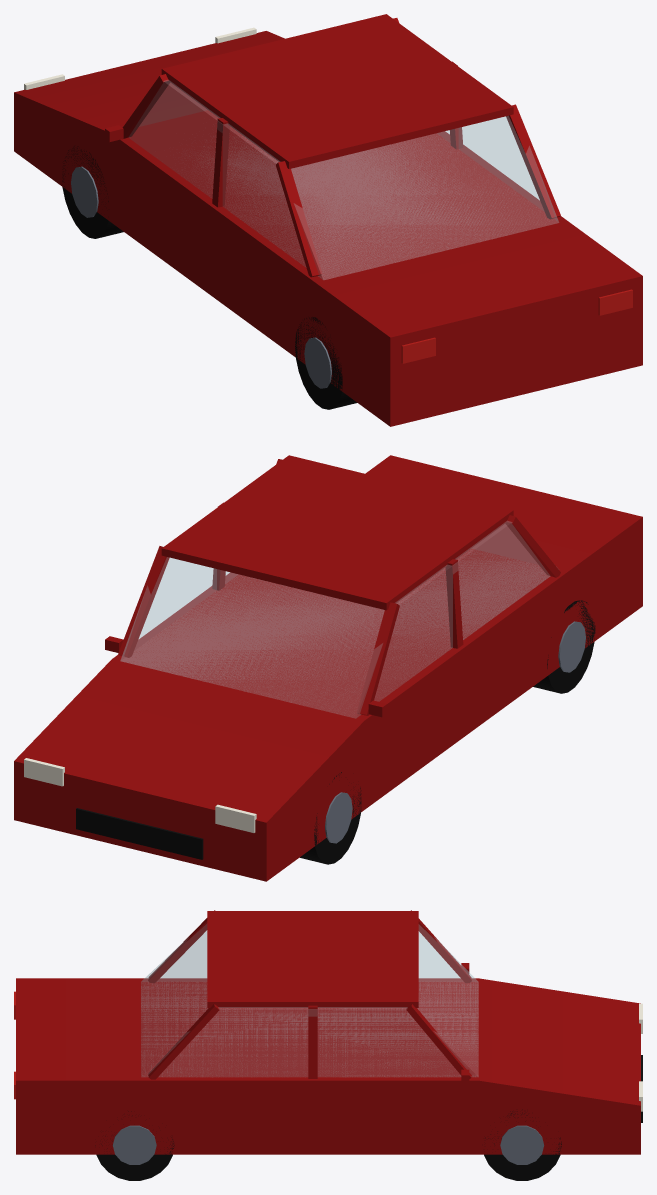
Rendered from vehicle.car.saloon_red.glb.
The picture shows the model from 3 angles, top to bottom: view 1: azimuth 30°, elevation 25°; view 2: azimuth 150°, elevation 25°; view 3: azimuth 270°, elevation 25°; orthographic projection. The views are drawn at different scales.
Parts seen in each view (by area): view 1: main__car_red, main__glass, main__rubber, main__steel_painted, main__hazard_red, main__light_emitter; view 2: main__car_red, main__glass, main__plastic_black, main__rubber, main__steel_painted, main__light_emitter; view 3: main__car_red, main__glass, main__steel_painted, main__rubber.
Part boxes in pixels (left/top/right/bottom): main__car_red: left=14, top=14, right=642, bottom=426; main__glass: left=129, top=80, right=558, bottom=279; main__rubber: left=62, top=146, right=357, bottom=409; main__steel_painted: left=71, top=166, right=331, bottom=388; main__hazard_red: left=401, top=289, right=632, bottom=363; main__light_emitter: left=24, top=27, right=256, bottom=89; main__car_red: left=14, top=455, right=642, bottom=881; main__glass: left=120, top=521, right=549, bottom=718; main__plastic_black: left=76, top=808, right=203, bottom=859; main__rubber: left=300, top=600, right=595, bottom=864; main__steel_painted: left=325, top=621, right=585, bottom=843; main__light_emitter: left=24, top=758, right=256, bottom=832; main__car_red: left=16, top=910, right=640, bottom=1154; main__glass: left=141, top=924, right=478, bottom=1076; main__steel_painted: left=112, top=1125, right=544, bottom=1164; main__rubber: left=95, top=1109, right=561, bottom=1180.
Size of the model in its own units: 2 by 1.44 by 4.73.
